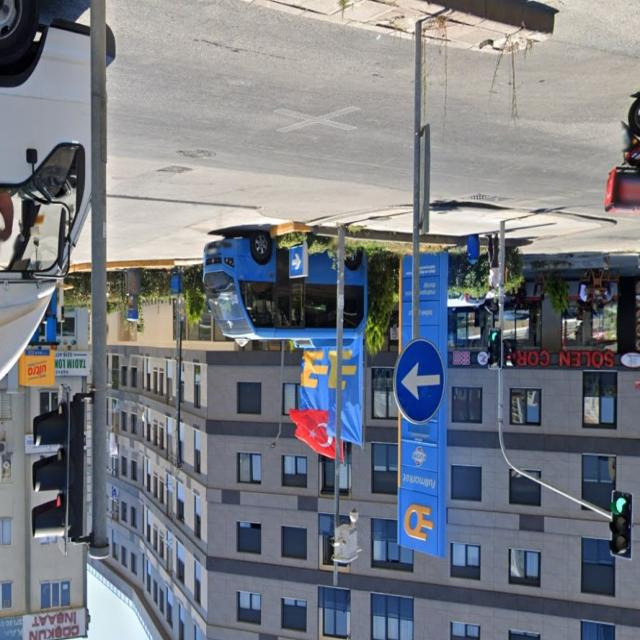Turn Left: (393, 346, 444, 427)
